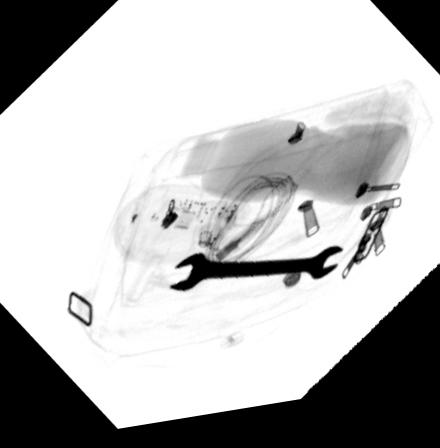Wrench: (167, 256, 346, 298)
